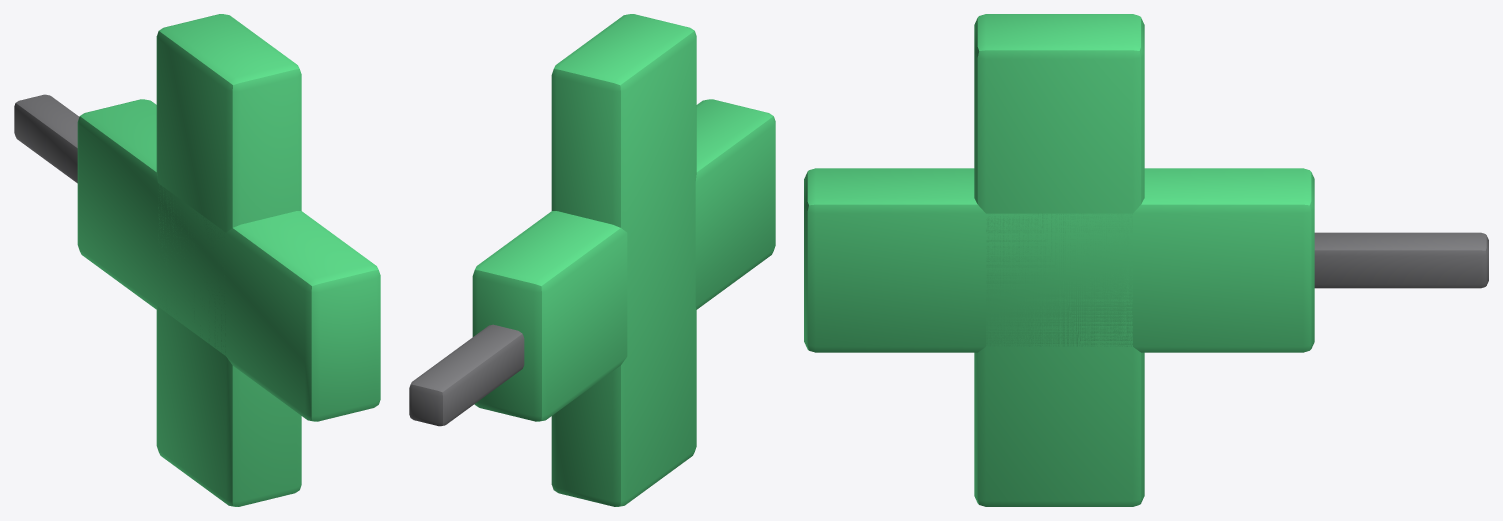
File: croix.glb
3 renders of one model, left to right at view 1: azimuth 30°, elevation 25°; view 2: azimuth 150°, elevation 25°; view 3: azimuth 270°, elevation 25°, orthographic. The views are drawn at different scales.
Parts seen in each view (by area): view 1: croix; view 2: croix; view 3: croix.
Boxes of the visible parts, bbox=[...] form: croix: bbox=[14, 14, 380, 506]; croix: bbox=[409, 14, 775, 506]; croix: bbox=[804, 14, 1488, 506].
Size of the model in its own units: 0.12 by 0.66 by 0.885.
